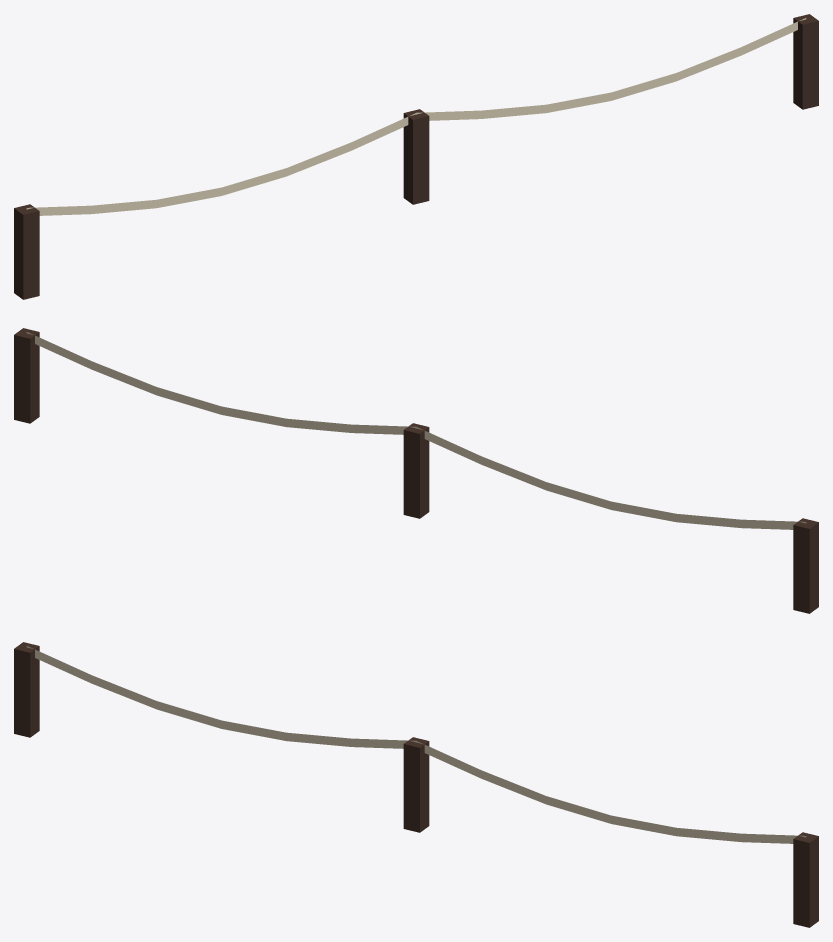
Rendered from cerca_corda.glb.
3 renders of one model, top to bottom at view 1: azimuth 30°, elevation 25°; view 2: azimuth 150°, elevation 25°; view 3: azimuth 330°, elevation 25°, orthographic.
Parts seen in each view (by area): view 1: Malha_0; view 2: Malha_0; view 3: Malha_0.
Part boxes in pixels (x1,y1,x2,y2): Malha_0: (14, 14, 818, 299); Malha_0: (14, 328, 818, 613); Malha_0: (14, 642, 818, 927).
Bounding box in the file's own units: 4.9 × 0.51 × 0.1.
